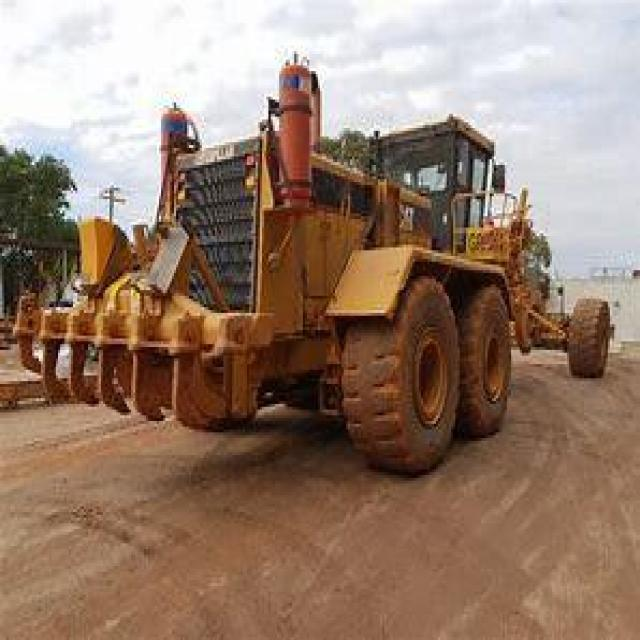Grader: (19, 46, 623, 480)
